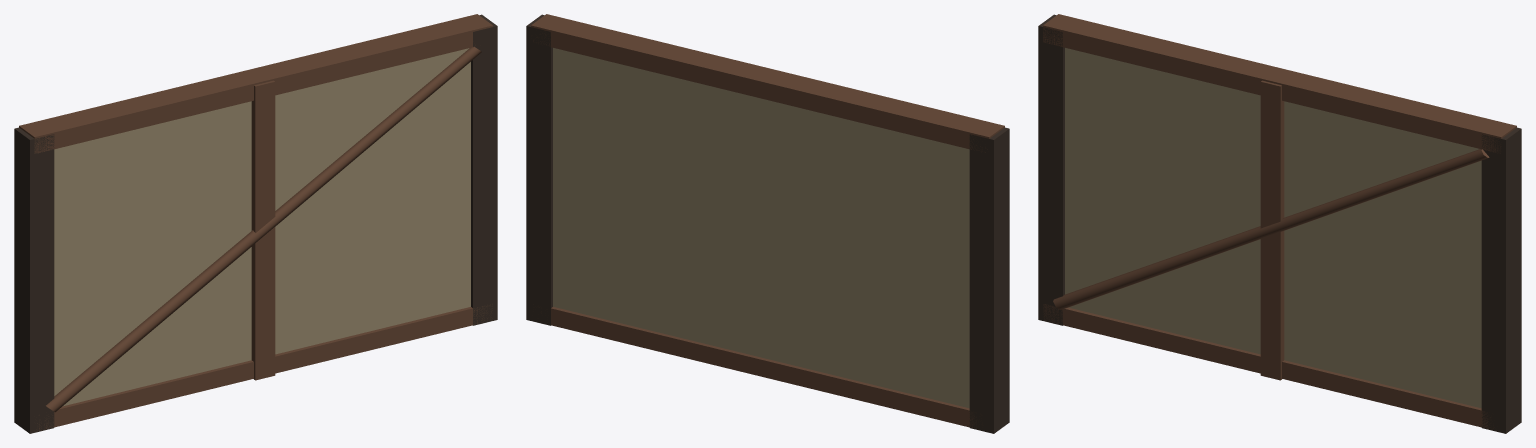
Rendered from Wall_Diagonal.glb.
3 renders of one model, left to right at view 1: azimuth 30°, elevation 25°; view 2: azimuth 150°, elevation 25°; view 3: azimuth 330°, elevation 25°, orthographic.
Visible parts, largest first — view 1: _MeshInstance3D_3886, _MeshInstance3D_3892, _MeshInstance3D_3889, _MeshInstance3D_3891, _MeshInstance3D_3890, _MeshInstance3D_3887, _MeshInstance3D_3888; view 2: _MeshInstance3D_3886, _MeshInstance3D_3892, _MeshInstance3D_3889, _MeshInstance3D_3891, _MeshInstance3D_3890; view 3: _MeshInstance3D_3886, _MeshInstance3D_3892, _MeshInstance3D_3890, _MeshInstance3D_3891, _MeshInstance3D_3889, _MeshInstance3D_3887, _MeshInstance3D_3888.
Boxes of the visible parts, box(x1,y1,x2,y2) form: _MeshInstance3D_3886: box(54, 48, 470, 406); _MeshInstance3D_3892: box(19, 14, 492, 153); _MeshInstance3D_3889: box(14, 127, 54, 433); _MeshInstance3D_3891: box(36, 304, 492, 430); _MeshInstance3D_3890: box(471, 14, 497, 325); _MeshInstance3D_3887: box(251, 80, 275, 380); _MeshInstance3D_3888: box(46, 46, 481, 412); _MeshInstance3D_3886: box(553, 48, 969, 408); _MeshInstance3D_3892: box(531, 14, 1004, 152); _MeshInstance3D_3889: box(969, 127, 1009, 433); _MeshInstance3D_3891: box(533, 304, 976, 427); _MeshInstance3D_3890: box(526, 14, 552, 325); _MeshInstance3D_3886: box(1065, 48, 1481, 408); _MeshInstance3D_3892: box(1043, 14, 1516, 153); _MeshInstance3D_3890: box(1481, 127, 1521, 433); _MeshInstance3D_3891: box(1043, 304, 1494, 428); _MeshInstance3D_3889: box(1038, 14, 1064, 325); _MeshInstance3D_3887: box(1260, 80, 1284, 380); _MeshInstance3D_3888: box(1053, 149, 1489, 309).
Bounding box in the file's own units: 4.33 × 2.61 × 0.295.
